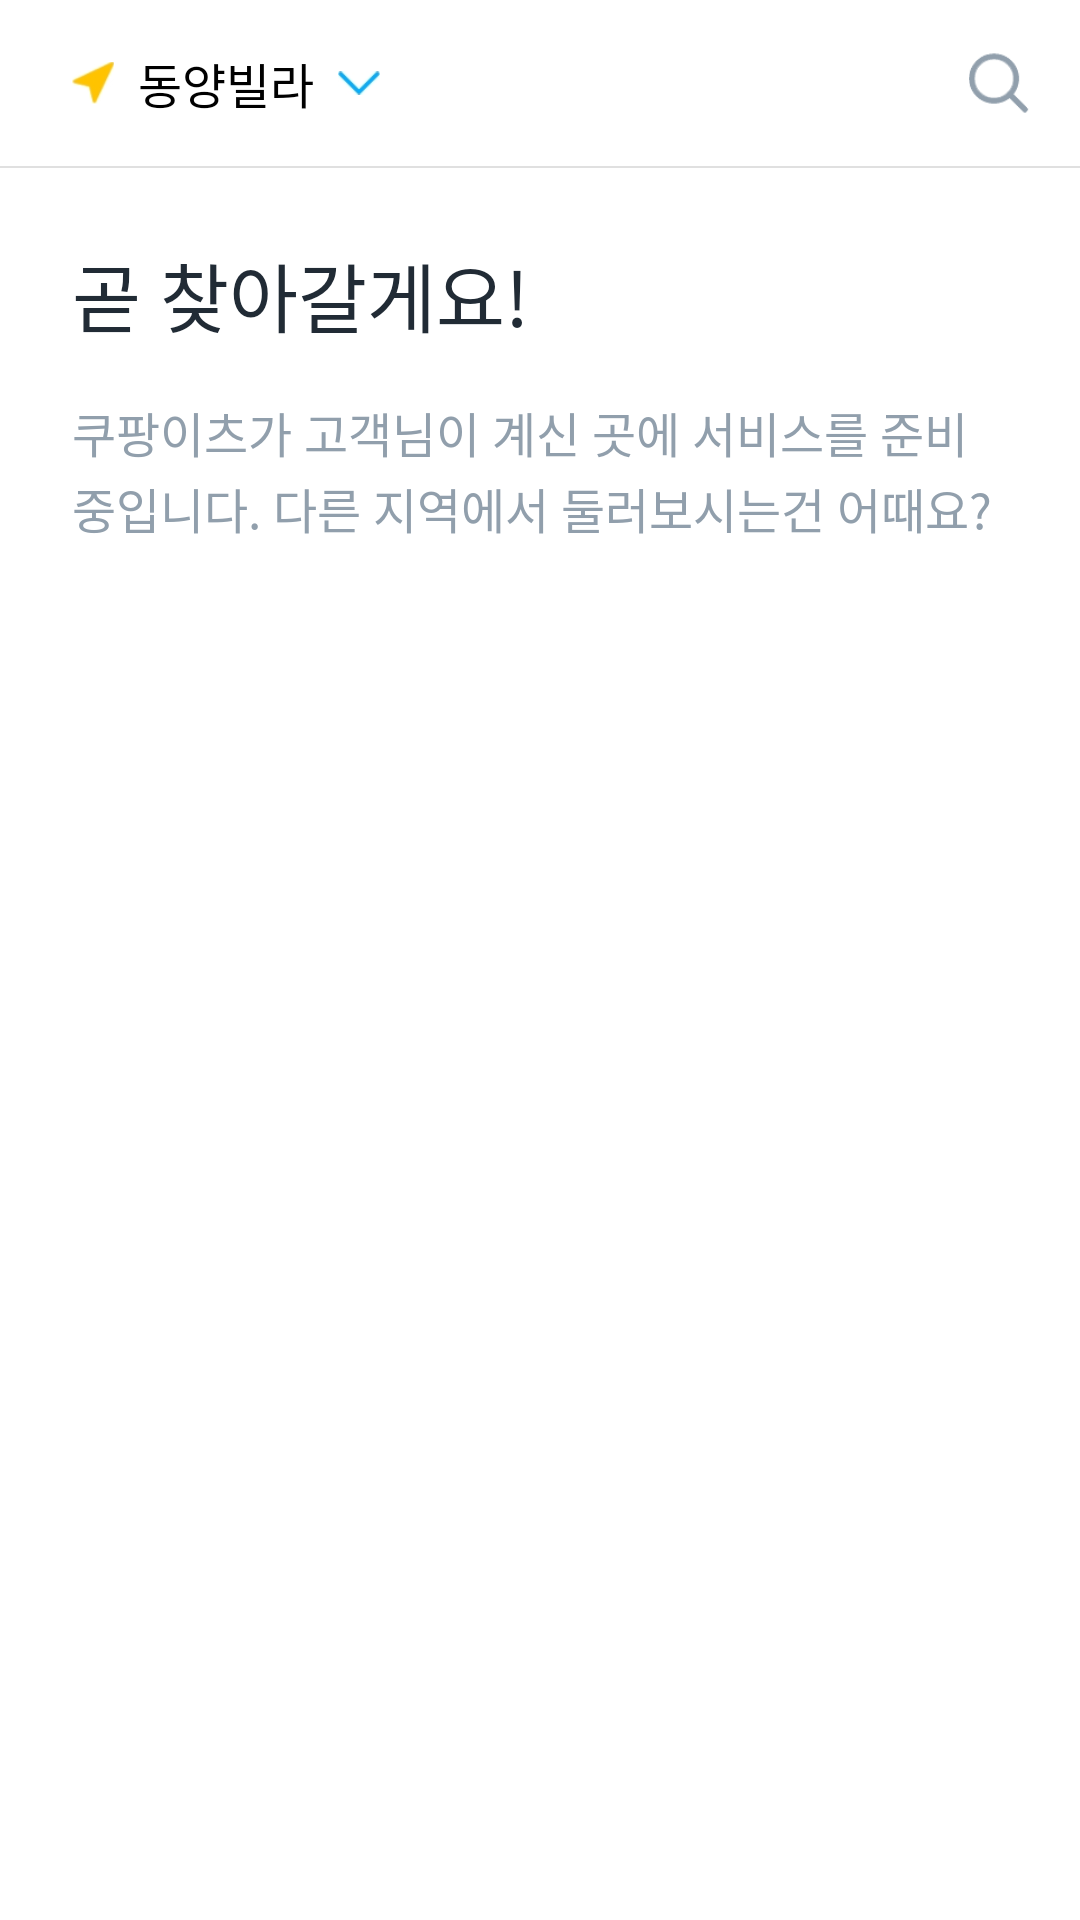

Locate icon controls on the screen. Image size 1080w x 1920h, boxes as box=[x1, y1, x2, y2].
item search: box=[969, 53, 1028, 113]
